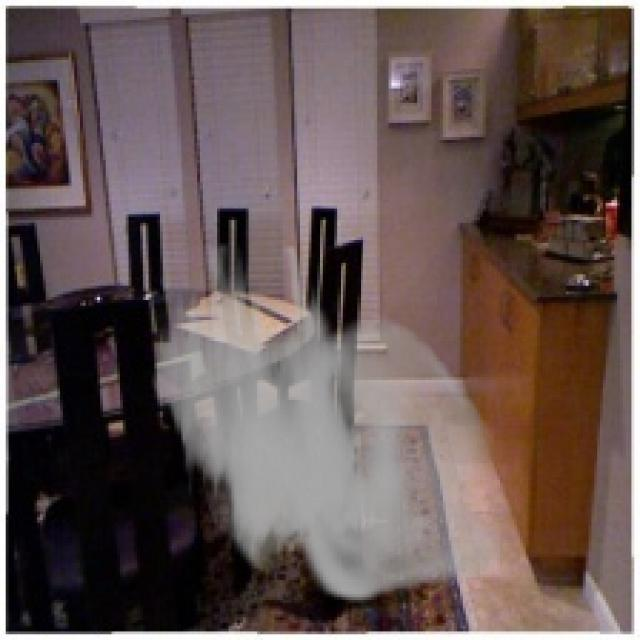Smoke: (148, 243, 503, 603)
